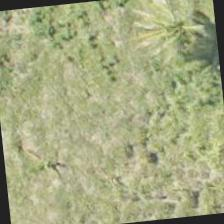Kelapa_Sawit: (124, 0, 221, 80)
